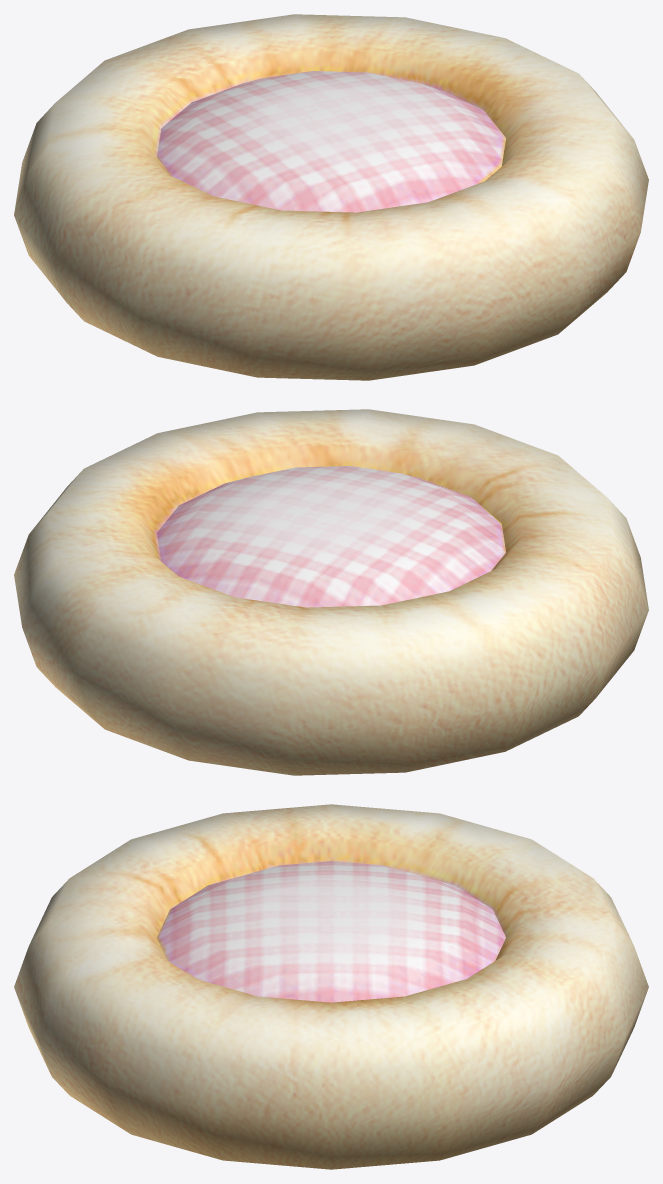
File: Doll_OB_Cushion_002.FBX
The picture shows the model from 3 angles, top to bottom: view 1: azimuth 30°, elevation 25°; view 2: azimuth 150°, elevation 25°; view 3: azimuth 270°, elevation 25°; orthographic projection.
Parts seen in each view (by area): view 1: Doll_OB_Cushion_002; view 2: Doll_OB_Cushion_002; view 3: Doll_OB_Cushion_002.
Boxes of the visible parts, bbox=[...] form: Doll_OB_Cushion_002: bbox=[14, 14, 648, 380]; Doll_OB_Cushion_002: bbox=[14, 409, 648, 775]; Doll_OB_Cushion_002: bbox=[14, 804, 648, 1169].
Bounding box in the file's own units: 29.78 × 7.32 × 29.78.
